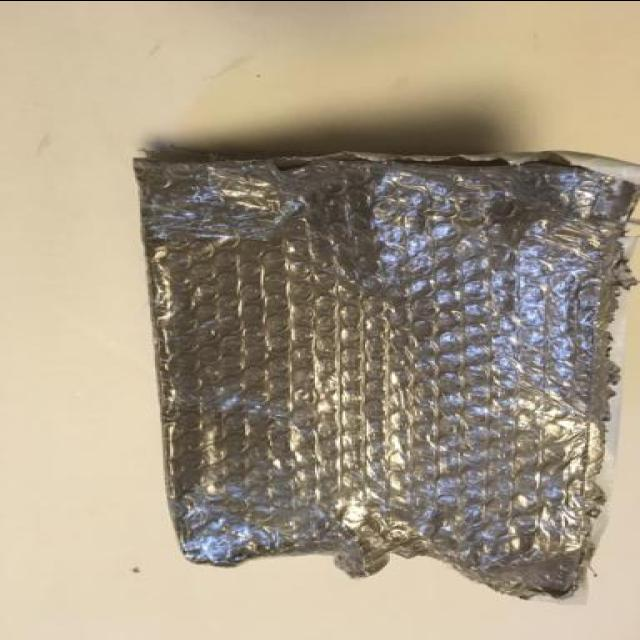non-organik: (128, 115, 636, 607)
